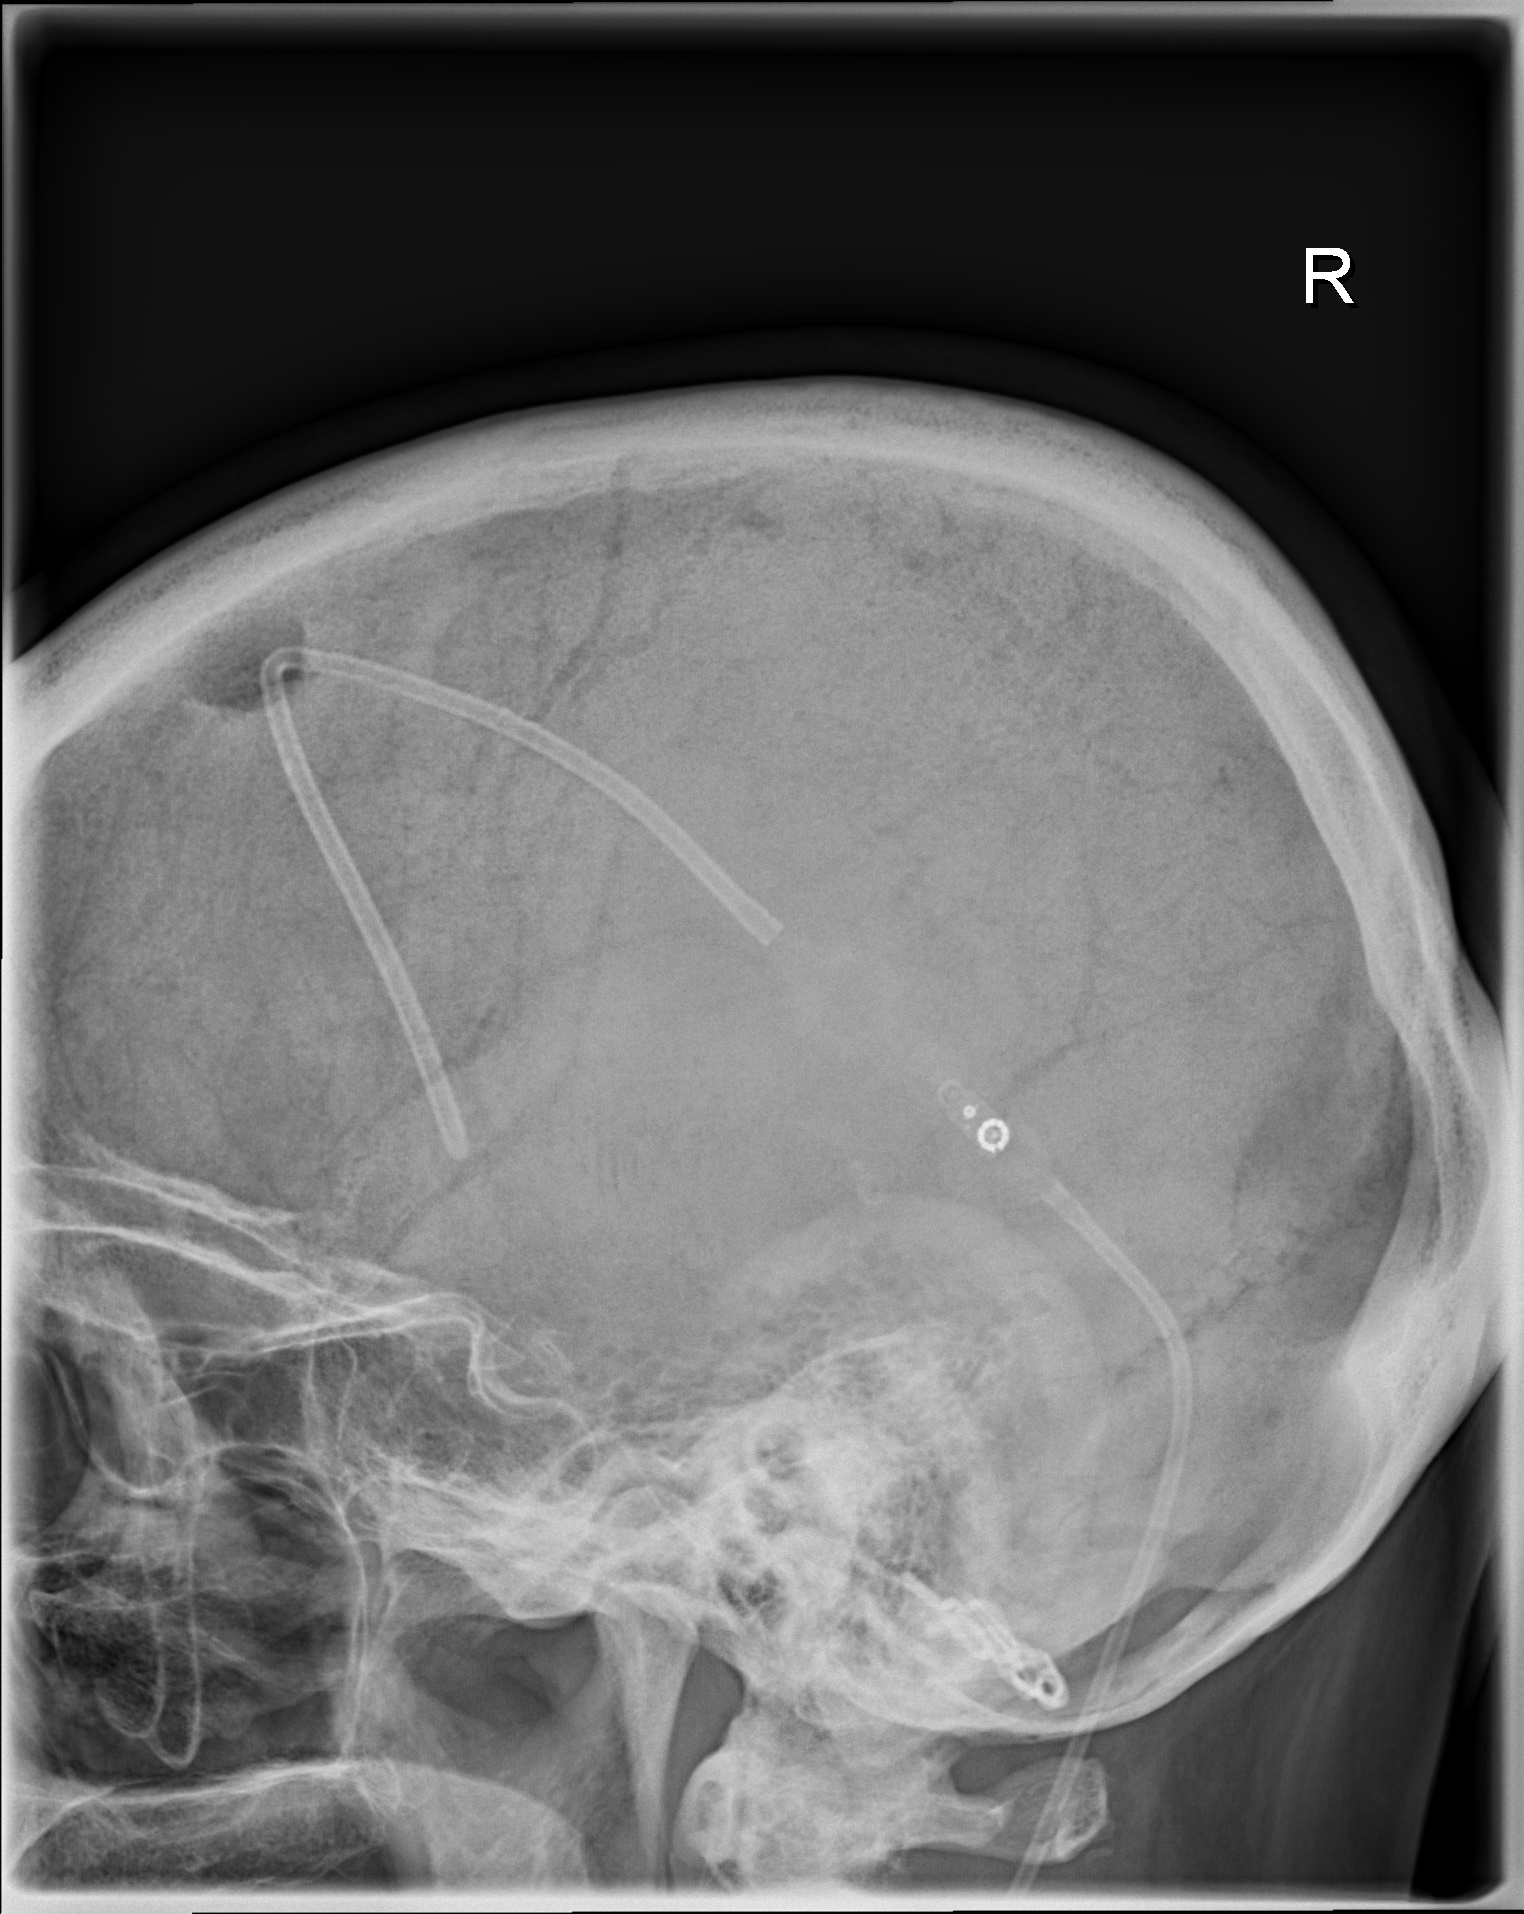Codman Hakim: (924, 1071, 1029, 1175)
